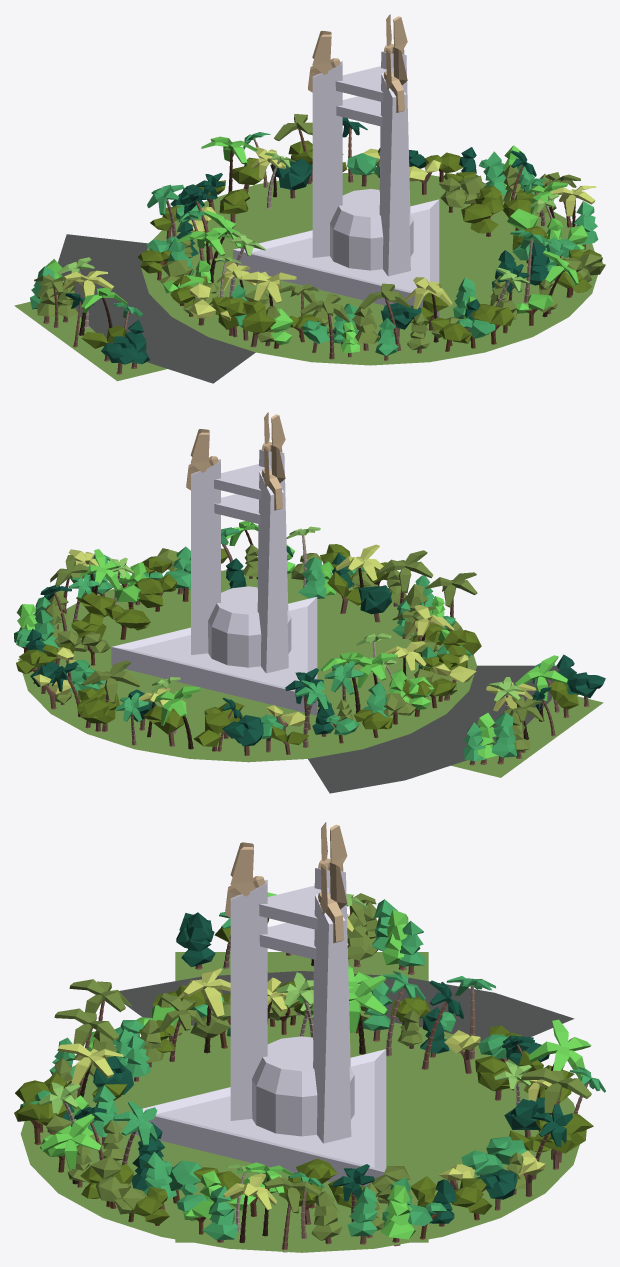
Rendered from QC_Env3.fbx.
The picture shows the model from 3 angles, top to bottom: view 1: azimuth 30°, elevation 25°; view 2: azimuth 150°, elevation 25°; view 3: azimuth 270°, elevation 25°; orthographic projection. The views are drawn at different scales.
Parts seen in each view (by area): view 1: QC_Env3; view 2: QC_Env3; view 3: QC_Env3.
Part boxes in pixels (<box>): QC_Env3: <box>14,14,605,383</box>; QC_Env3: <box>14,412,605,793</box>; QC_Env3: <box>14,822,605,1252</box>.
Size of the model in its own units: 8517 by 3893 by 6890.
